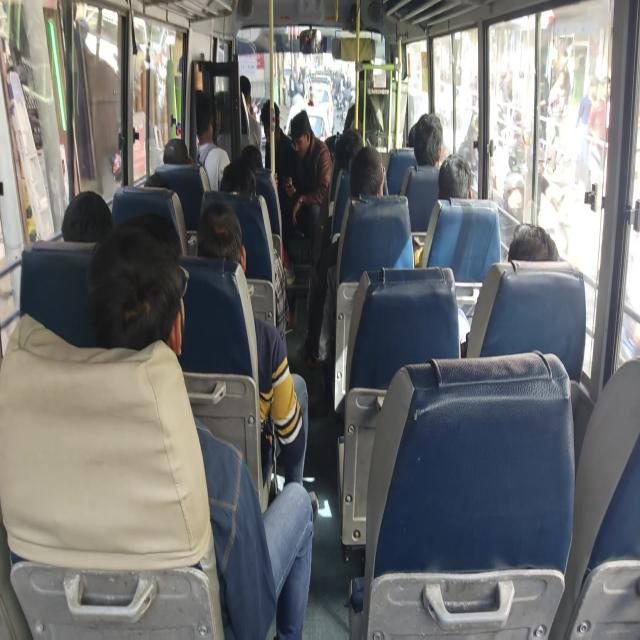person: (100, 237, 179, 327), (197, 209, 244, 268), (64, 183, 116, 231), (511, 218, 550, 270), (353, 153, 390, 202), (437, 156, 469, 200), (417, 122, 443, 172), (163, 130, 195, 169), (221, 172, 264, 200), (354, 56, 374, 94), (141, 165, 173, 188), (192, 96, 211, 132), (334, 141, 356, 168), (260, 104, 278, 136), (290, 120, 310, 140), (231, 147, 260, 159), (237, 80, 254, 100)
